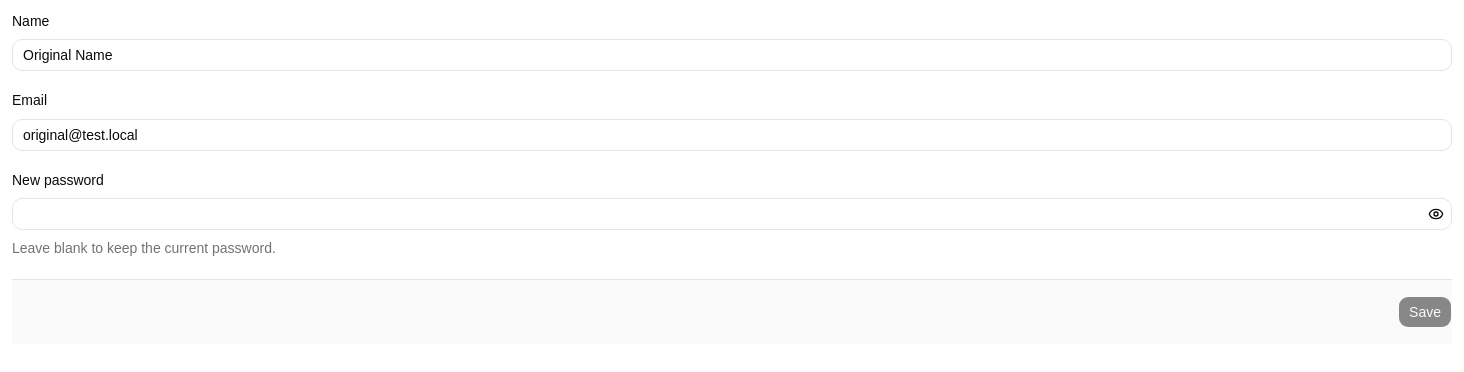
Scenario: EditUserForm — when the server refuses › shows the email as already taken when the API answers 409
This screenshot has width=1464, height=372.
Replace the text in the field labelled "Email" with "someone.else@test.local": x=732, y=134 x1=12 y1=118 x2=1452 y2=150
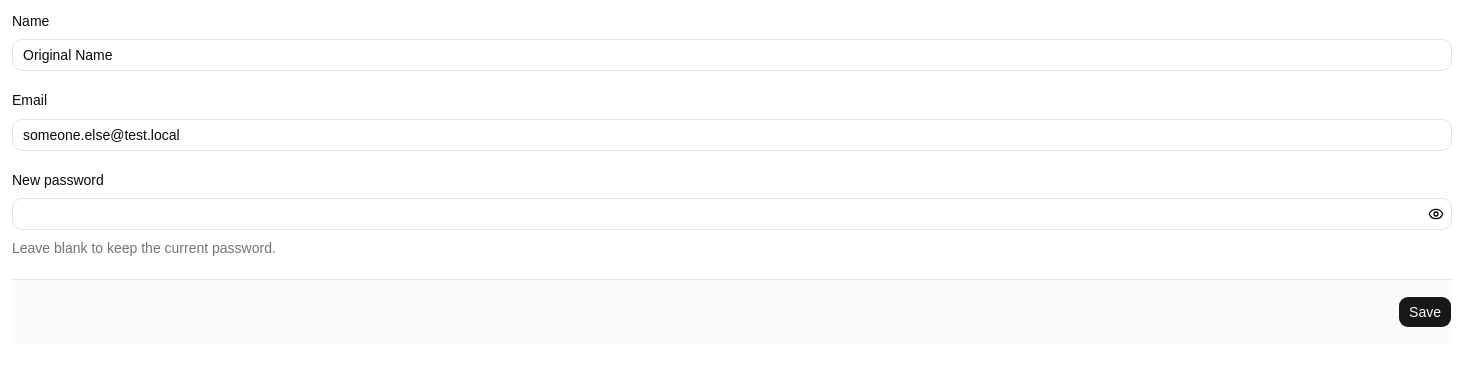
Click the button "Save": x=1425, y=312 x1=1398 y1=296 x2=1452 y2=328
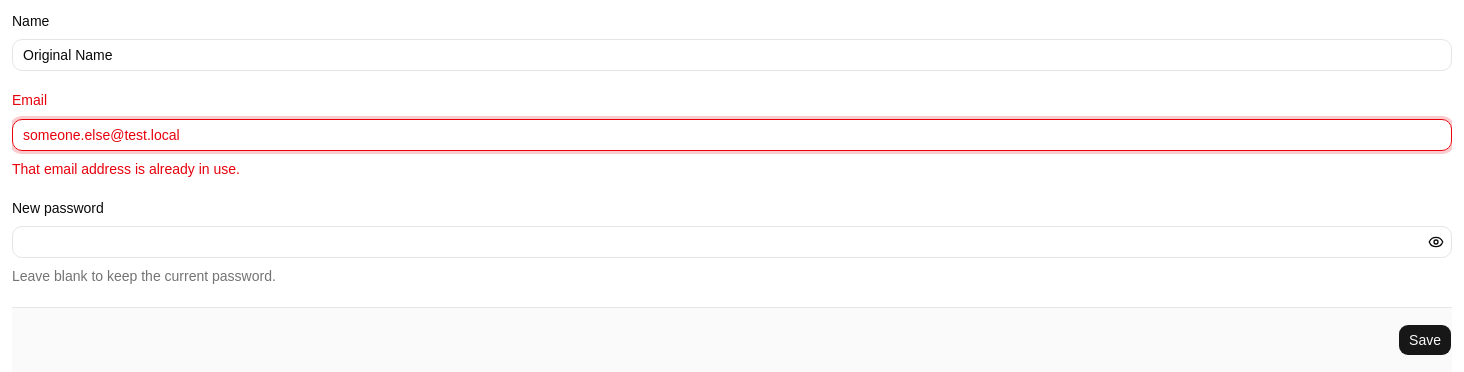
Expected: the text "That email address is already in use." is shown, x1=12 y1=160 x2=240 y2=176
